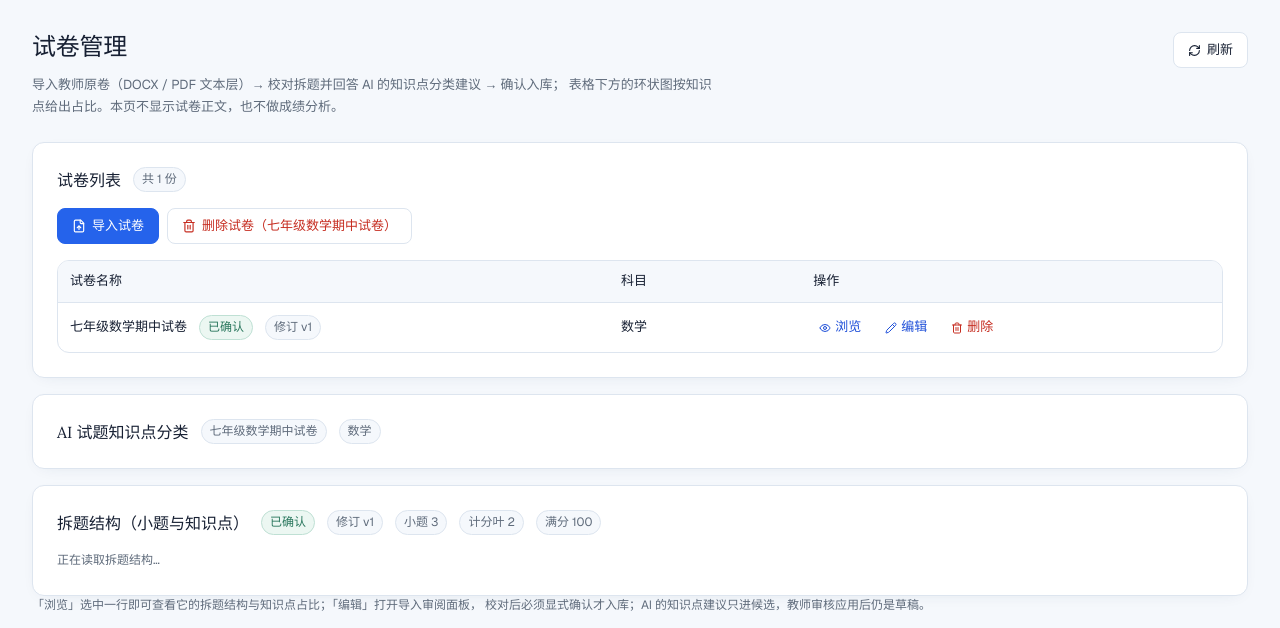
试卷管理页：物理删除受引用守卫（无归档兜底） › 409 PAPER_IN_USE：逐项列出引用计数，且不再提供「改为归档」
Expected: the table is shown, x1=58 y1=261 x2=1222 y2=352
Click the button with test id "assessments-paper-delete-selected" at (290,226), box x1=167 y1=208 x2=412 y2=244
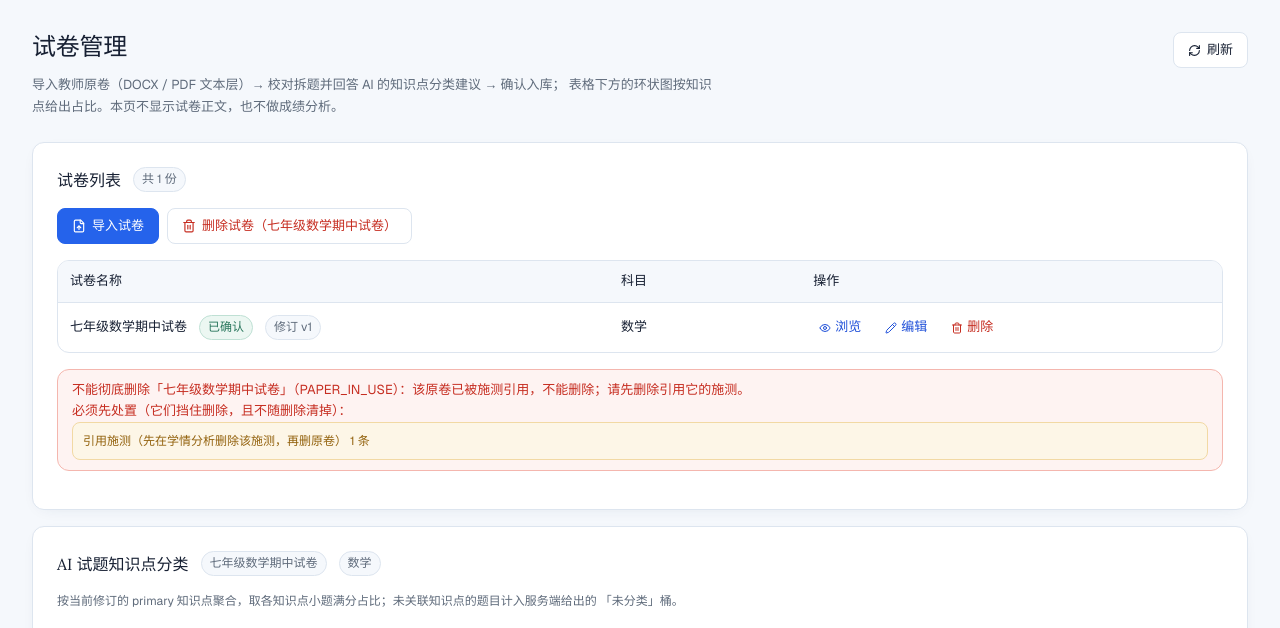
Expected: the message with test id "assessments-paper-delete-guard" shows "PAPER_IN_USE", x1=300 y1=381 x2=393 y2=398
Expected: the message with test id "assessments-paper-delete-guard" shows "必须先处置（它们挡住删除，且不随删除清掉）：", x1=72 y1=402 x2=352 y2=419
Expected: the message with test id "assessments-paper-delete-guard" shows "引用施测（先在学情分析删除该施测，再删原卷） 1 条", x1=57 y1=369 x2=1223 y2=471
